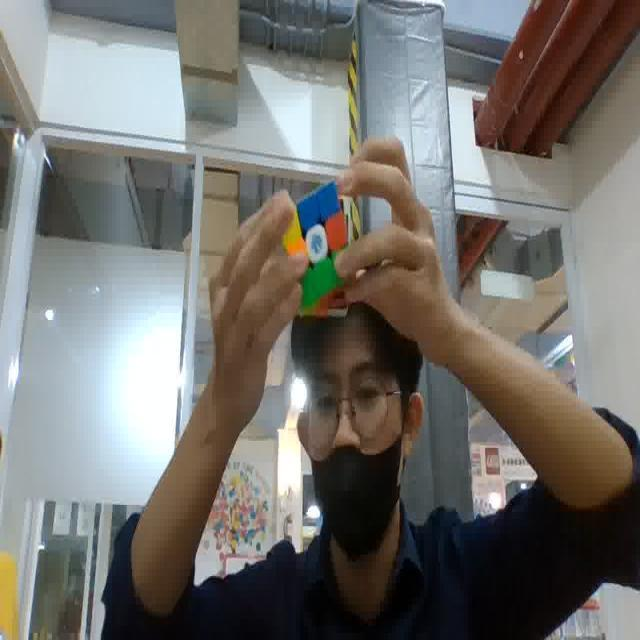Rub: (276, 175, 355, 322)
